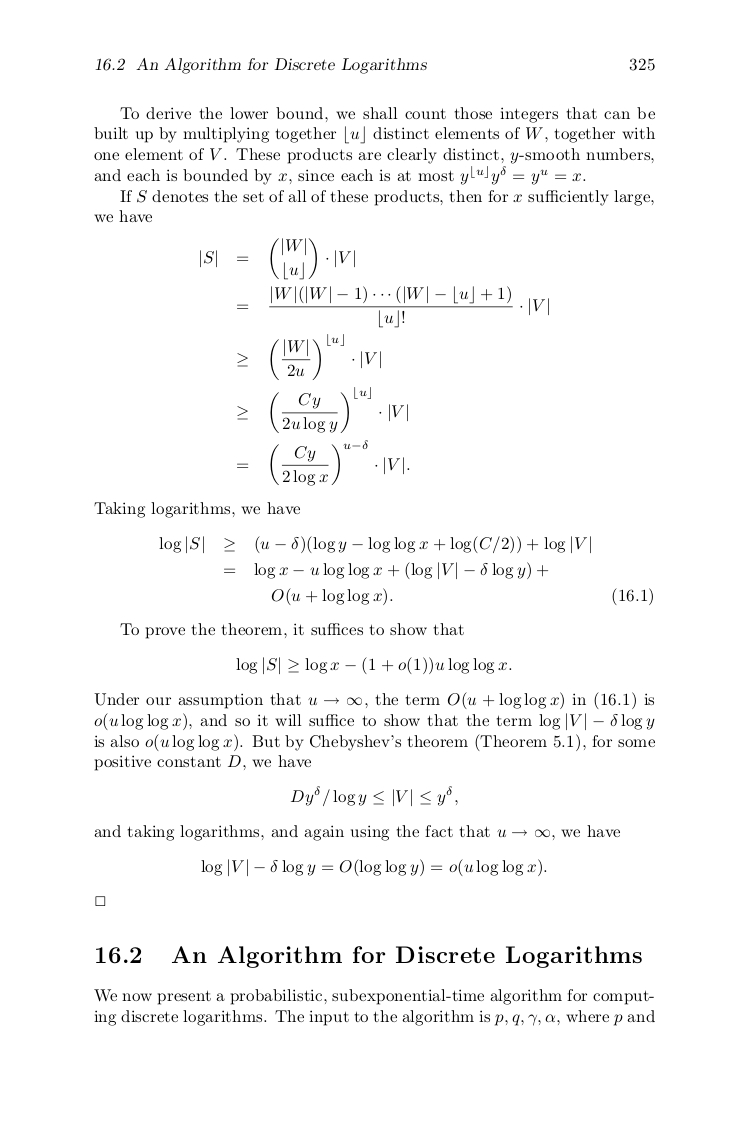formula: (237, 285, 548, 328), (159, 535, 590, 554), (237, 439, 409, 486), (237, 386, 407, 433), (271, 587, 652, 606), (237, 332, 380, 380), (200, 237, 354, 280), (201, 858, 546, 877), (224, 561, 548, 580), (236, 656, 511, 675), (290, 785, 457, 807)
